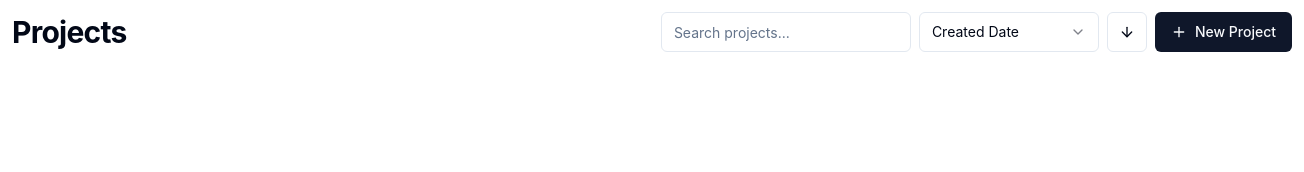
Test: ProjectsPage sorting › names the icon-only sort order button by the order a click gives
Click the button named "Sort ascending". click: (1127, 32)
box: top-left (1107, 12), bottom-right (1147, 52)
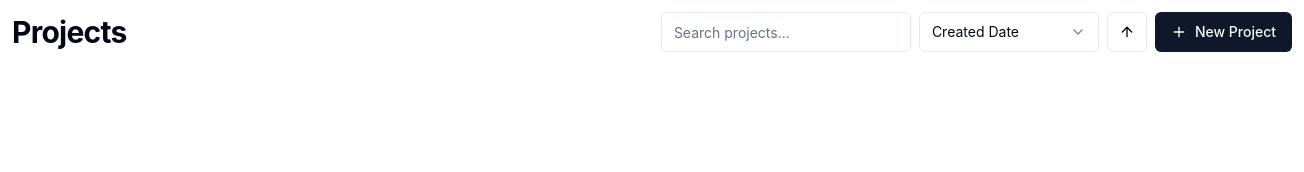
Check: the button named "Sort descending" is shown, box top-left (1107, 12), bottom-right (1147, 52)
